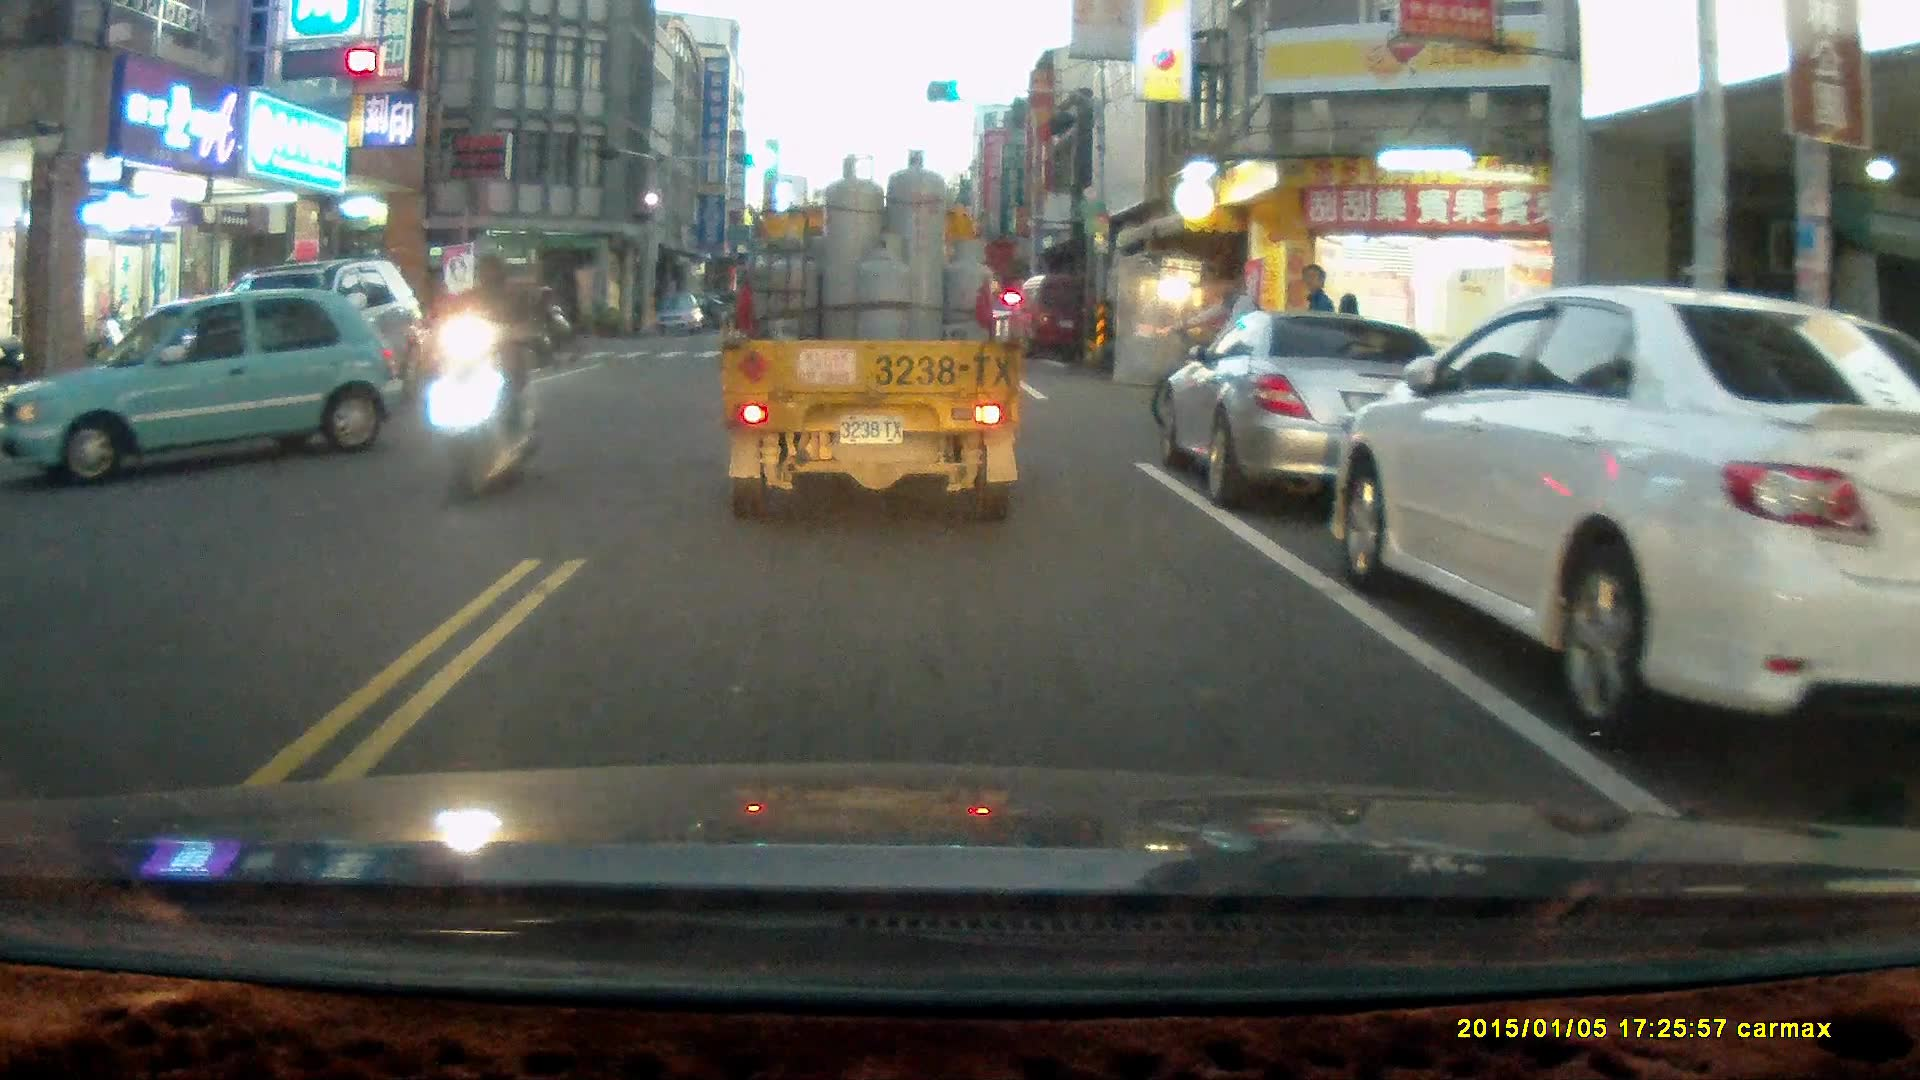rider: (432, 246, 545, 507), (1150, 272, 1310, 449)
vehicle: (1336, 282, 1920, 751), (721, 150, 1022, 524), (1, 286, 386, 488), (1152, 308, 1469, 506), (1013, 269, 1112, 360), (652, 292, 707, 340)
